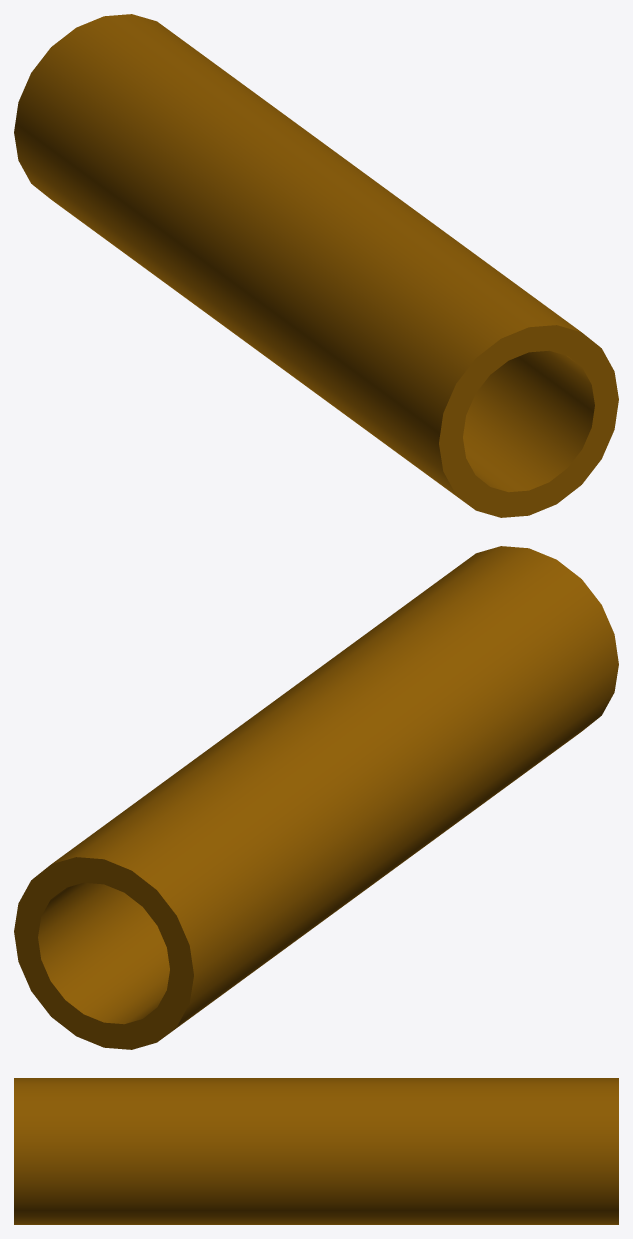
The model's file is openLog.fbx.
3 renders of one model, top to bottom at view 1: azimuth 30°, elevation 25°; view 2: azimuth 150°, elevation 25°; view 3: azimuth 270°, elevation 25°, orthographic. The views are drawn at different scales.
Visible parts, largest first — view 1: pPipe1; view 2: pPipe1; view 3: pPipe1.
Boxes of the visible parts, x1,y1,x2,y2 form: pPipe1: (14,14,618,517); pPipe1: (14,546,618,1049); pPipe1: (14,1078,618,1224).
Size of the model in its own units: 10.22 by 10.22 by 41.77.
